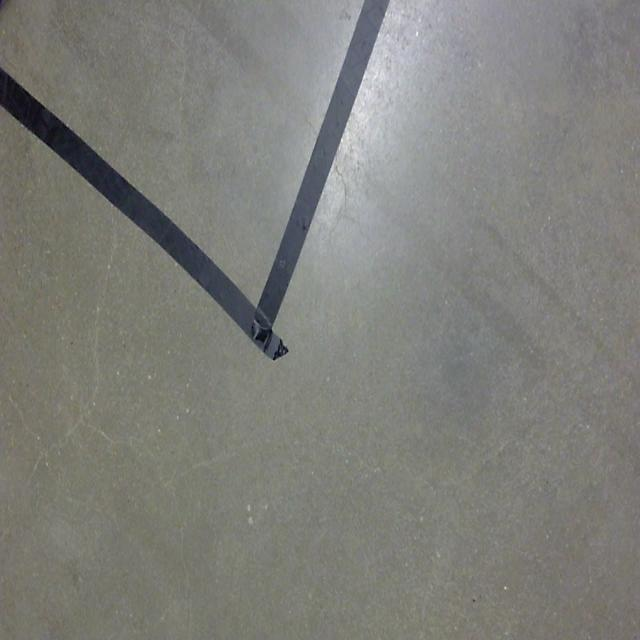tape: (0, 0, 410, 401)
